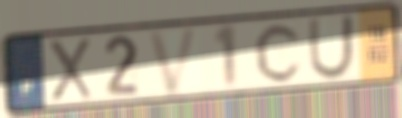1: (212, 22, 238, 92)
2: (103, 33, 140, 97)
C: (253, 21, 305, 85)
U: (307, 13, 357, 82)
V: (145, 24, 203, 97)
X: (45, 36, 95, 104)
